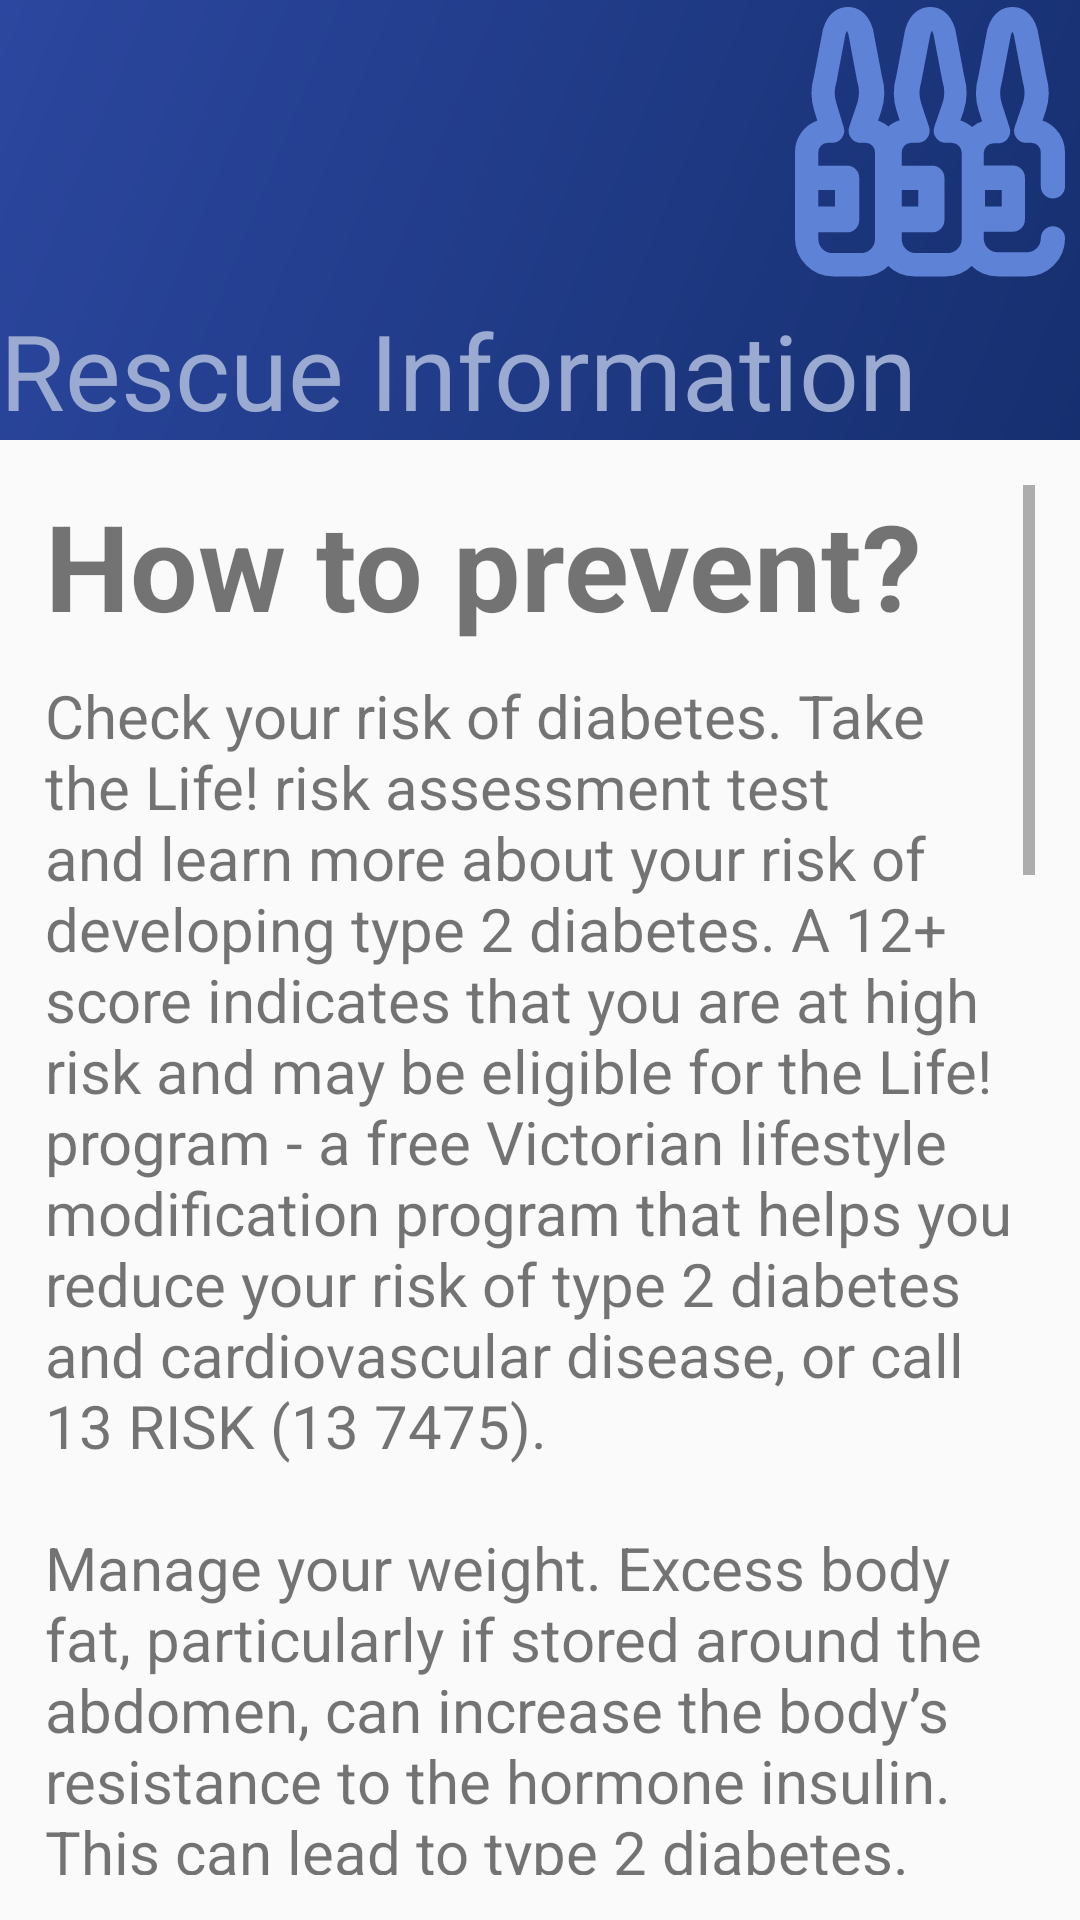

Screen size 1080w x 1920h. Icon name, then its center in pixels as point (x, y):
Diabetes: point (930, 142)
